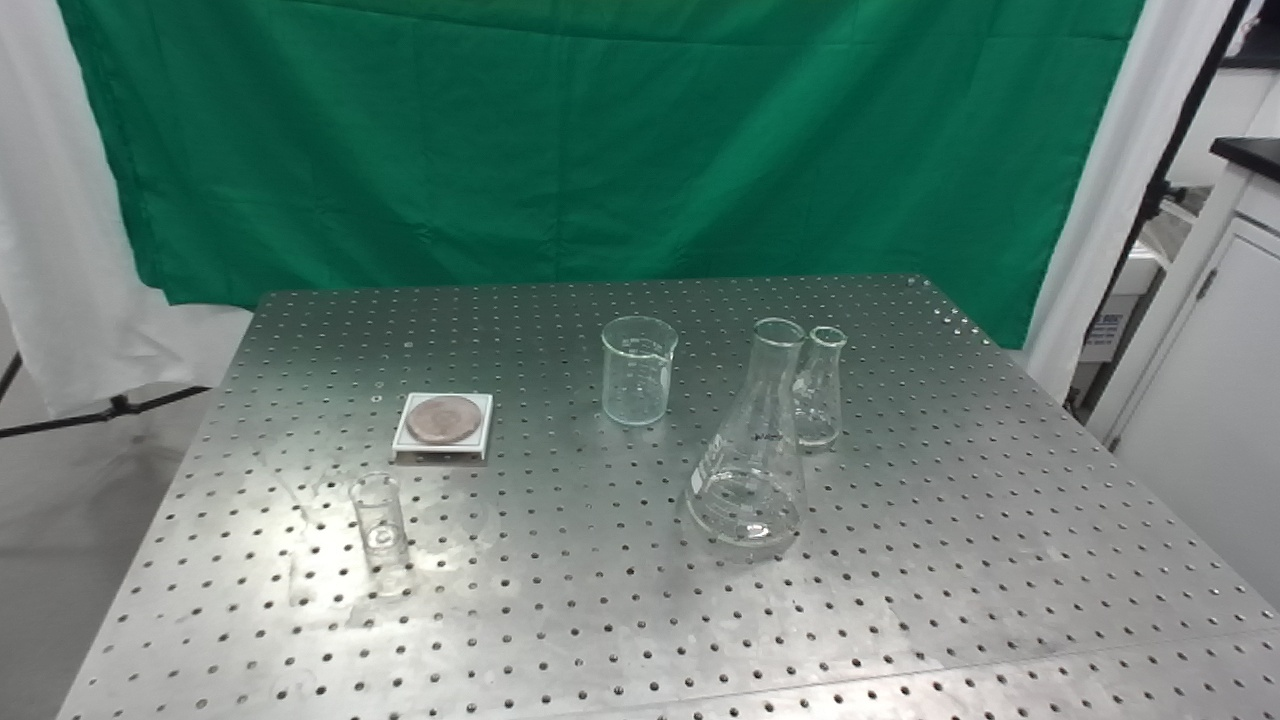glass: (687, 313, 810, 551), (595, 312, 680, 430), (789, 323, 847, 454), (347, 470, 408, 556)
plate: (390, 387, 497, 469)
